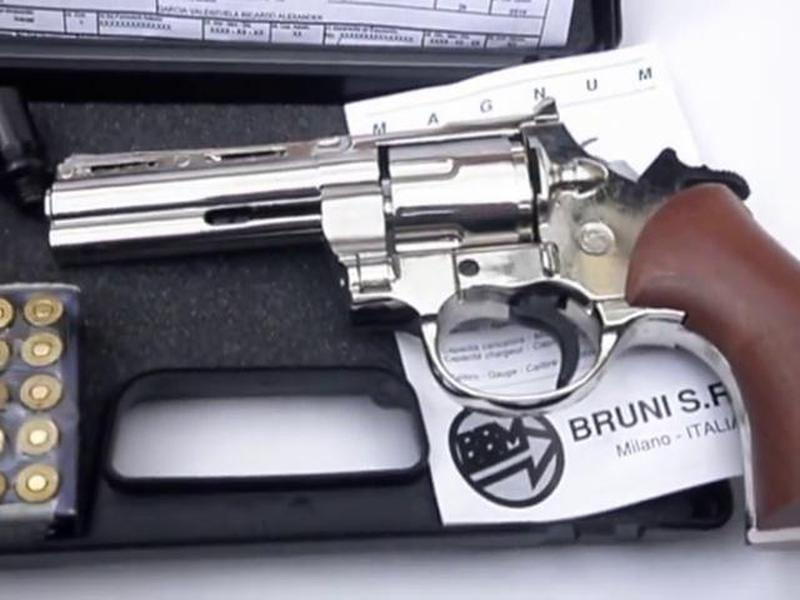Revolver: (45, 120, 800, 455)
